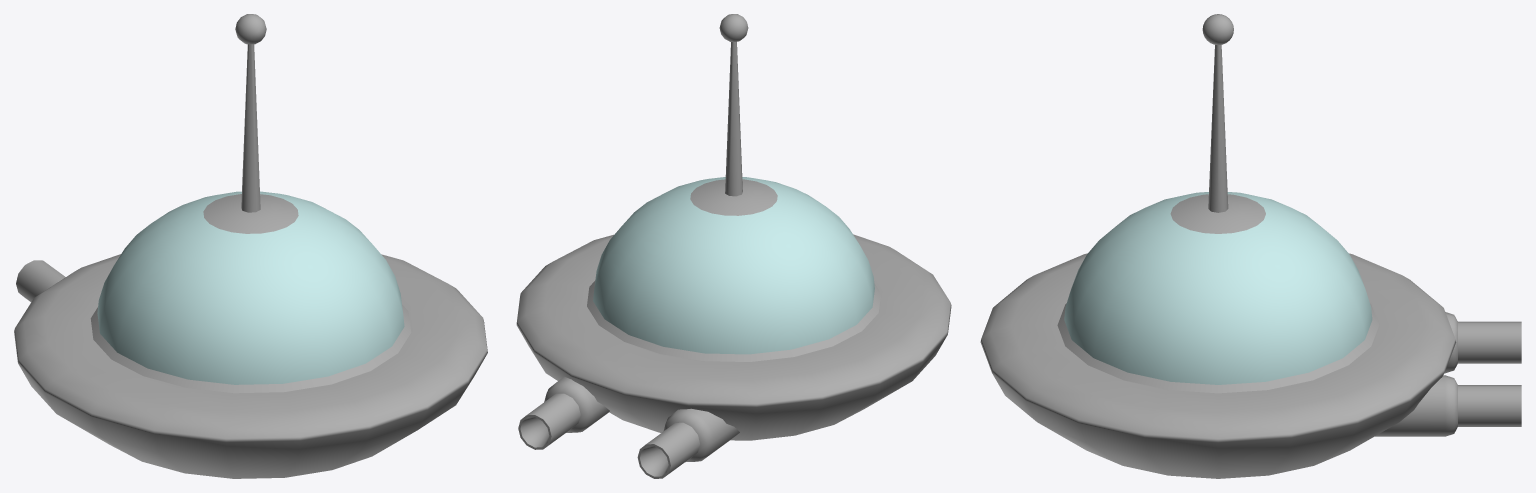
File: SpaceShip.fbx
3 views of the same model, side by side, from view 1: azimuth 30°, elevation 25°; view 2: azimuth 150°, elevation 25°; view 3: azimuth 270°, elevation 25° (orthographic). The views are drawn at different scales.
Parts seen in each view (by area): view 1: pSphere3; view 2: pSphere3; view 3: pSphere3.
Part boxes in pixels (box(x1,y1,x2,y2)): pSphere3: box(14, 14, 487, 478); pSphere3: box(516, 14, 951, 478); pSphere3: box(980, 14, 1521, 478).
Bounding box in the file's own units: 10.15 × 9.3 × 11.55.
